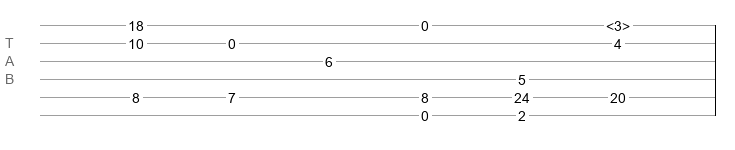0: (228, 36, 236, 46), (421, 108, 429, 118), (421, 18, 429, 28)
10: (128, 36, 144, 46)
18: (128, 18, 144, 28)
2: (518, 108, 526, 118)
20: (610, 90, 626, 100)
24: (514, 90, 530, 100)
4: (614, 36, 622, 46)
5: (518, 72, 526, 82)
6: (325, 54, 333, 64)
7: (228, 90, 236, 100)
8: (132, 90, 140, 100), (421, 90, 429, 100)
harmonic: (606, 18, 630, 28)
